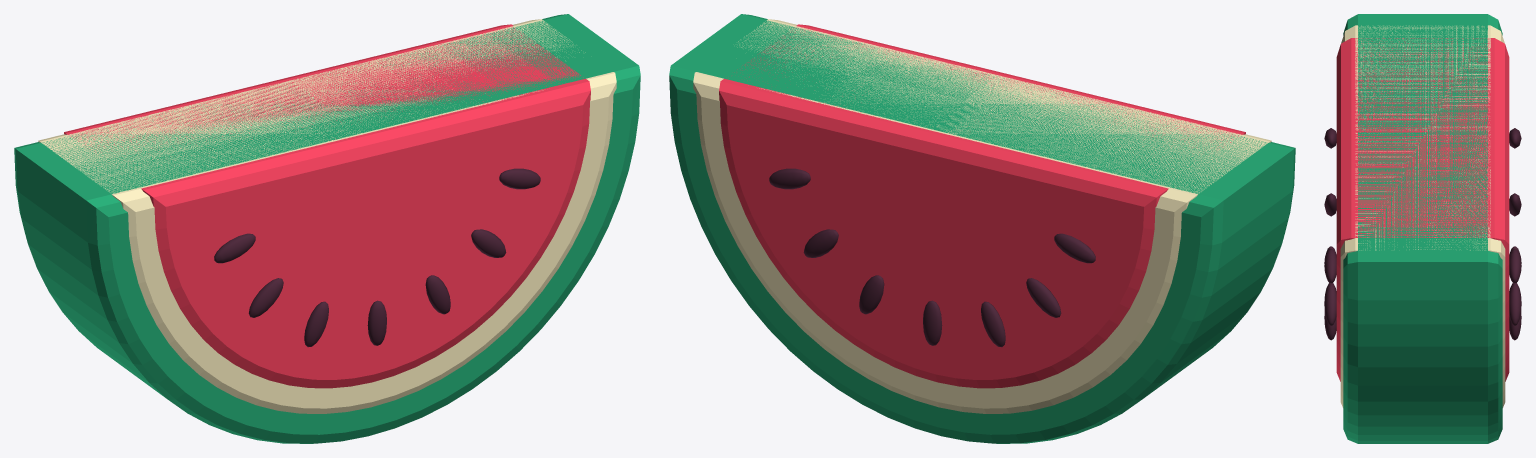
Rendered from melon.glb.
3 renders of one model, left to right at view 1: azimuth 30°, elevation 25°; view 2: azimuth 150°, elevation 25°; view 3: azimuth 270°, elevation 25°, orthographic. The views are drawn at different scales.
Visible parts, largest first — view 1: melon-melon, melon-rind, melon-pith, melon-seed; view 2: melon-melon, melon-rind, melon-pith, melon-seed; view 3: melon-rind, melon-melon, melon-pith, melon-seed.
Boxes of the visible parts, box(x1,y1,x2,y2) form: melon-melon: box(64, 24, 590, 388); melon-rind: box(14, 14, 640, 443); melon-pith: box(38, 19, 616, 413); melon-seed: box(214, 168, 540, 347); melon-melon: box(719, 24, 1245, 388); melon-rind: box(669, 14, 1295, 443); melon-pith: box(693, 19, 1271, 413); melon-seed: box(769, 168, 1095, 347); melon-rind: box(1343, 14, 1502, 443); melon-melon: box(1336, 38, 1509, 381); melon-pith: box(1340, 25, 1505, 407); melon-seed: box(1324, 128, 1521, 340).
Size of the model in its own units: 2.17 by 1.14 by 0.73.
